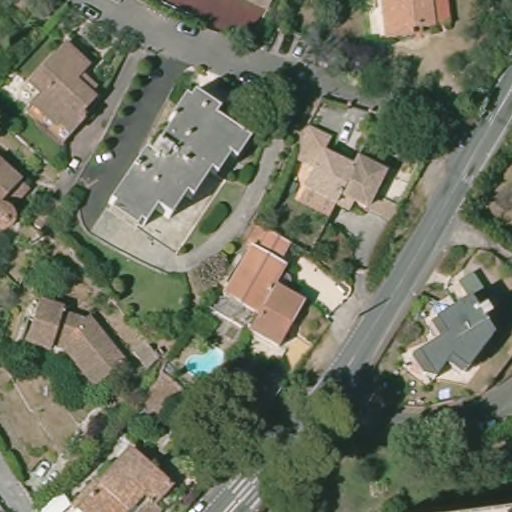pool: (182, 344, 231, 381)
